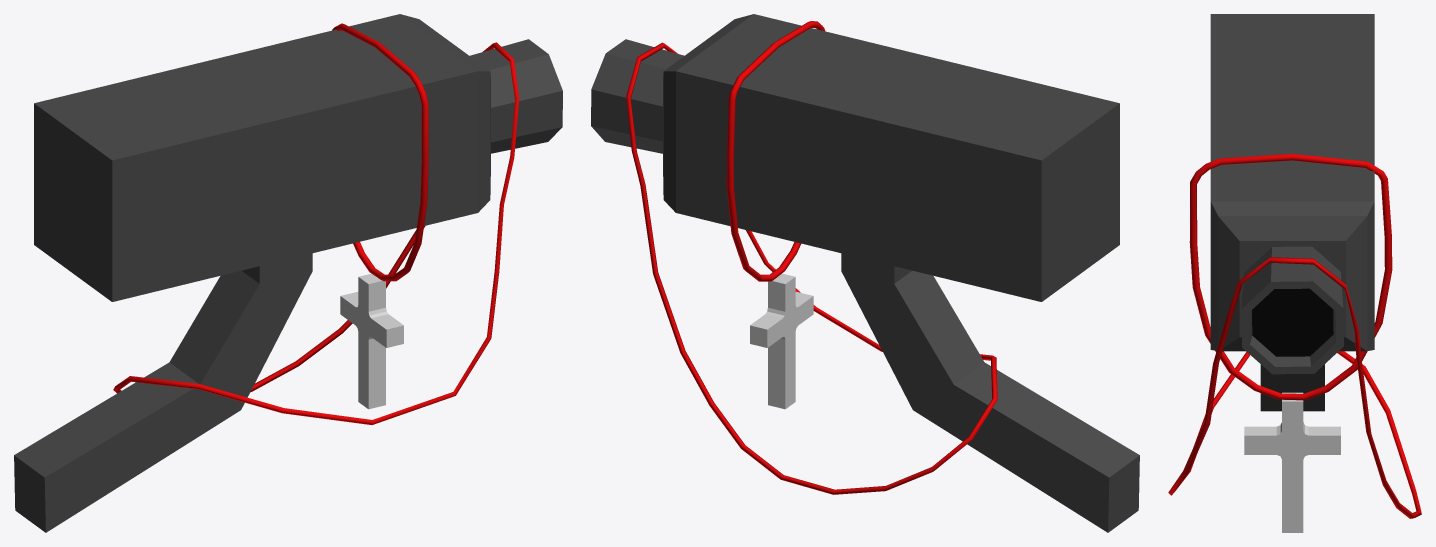
File: Camera 1.fbx
The picture shows the model from 3 angles, left to right: view 1: azimuth 30°, elevation 25°; view 2: azimuth 150°, elevation 25°; view 3: azimuth 270°, elevation 25°; orthographic projection. The views are drawn at different scales.
Parts seen in each view (by area): view 1: Cube; view 2: Cube; view 3: Cube.
Boxes of the visible parts, bbox=[...] form: Cube: bbox=[14, 14, 562, 532]; Cube: bbox=[591, 14, 1139, 532]; Cube: bbox=[1168, 14, 1421, 532].
Size of the model in its own units: 752 by 557 by 309.
